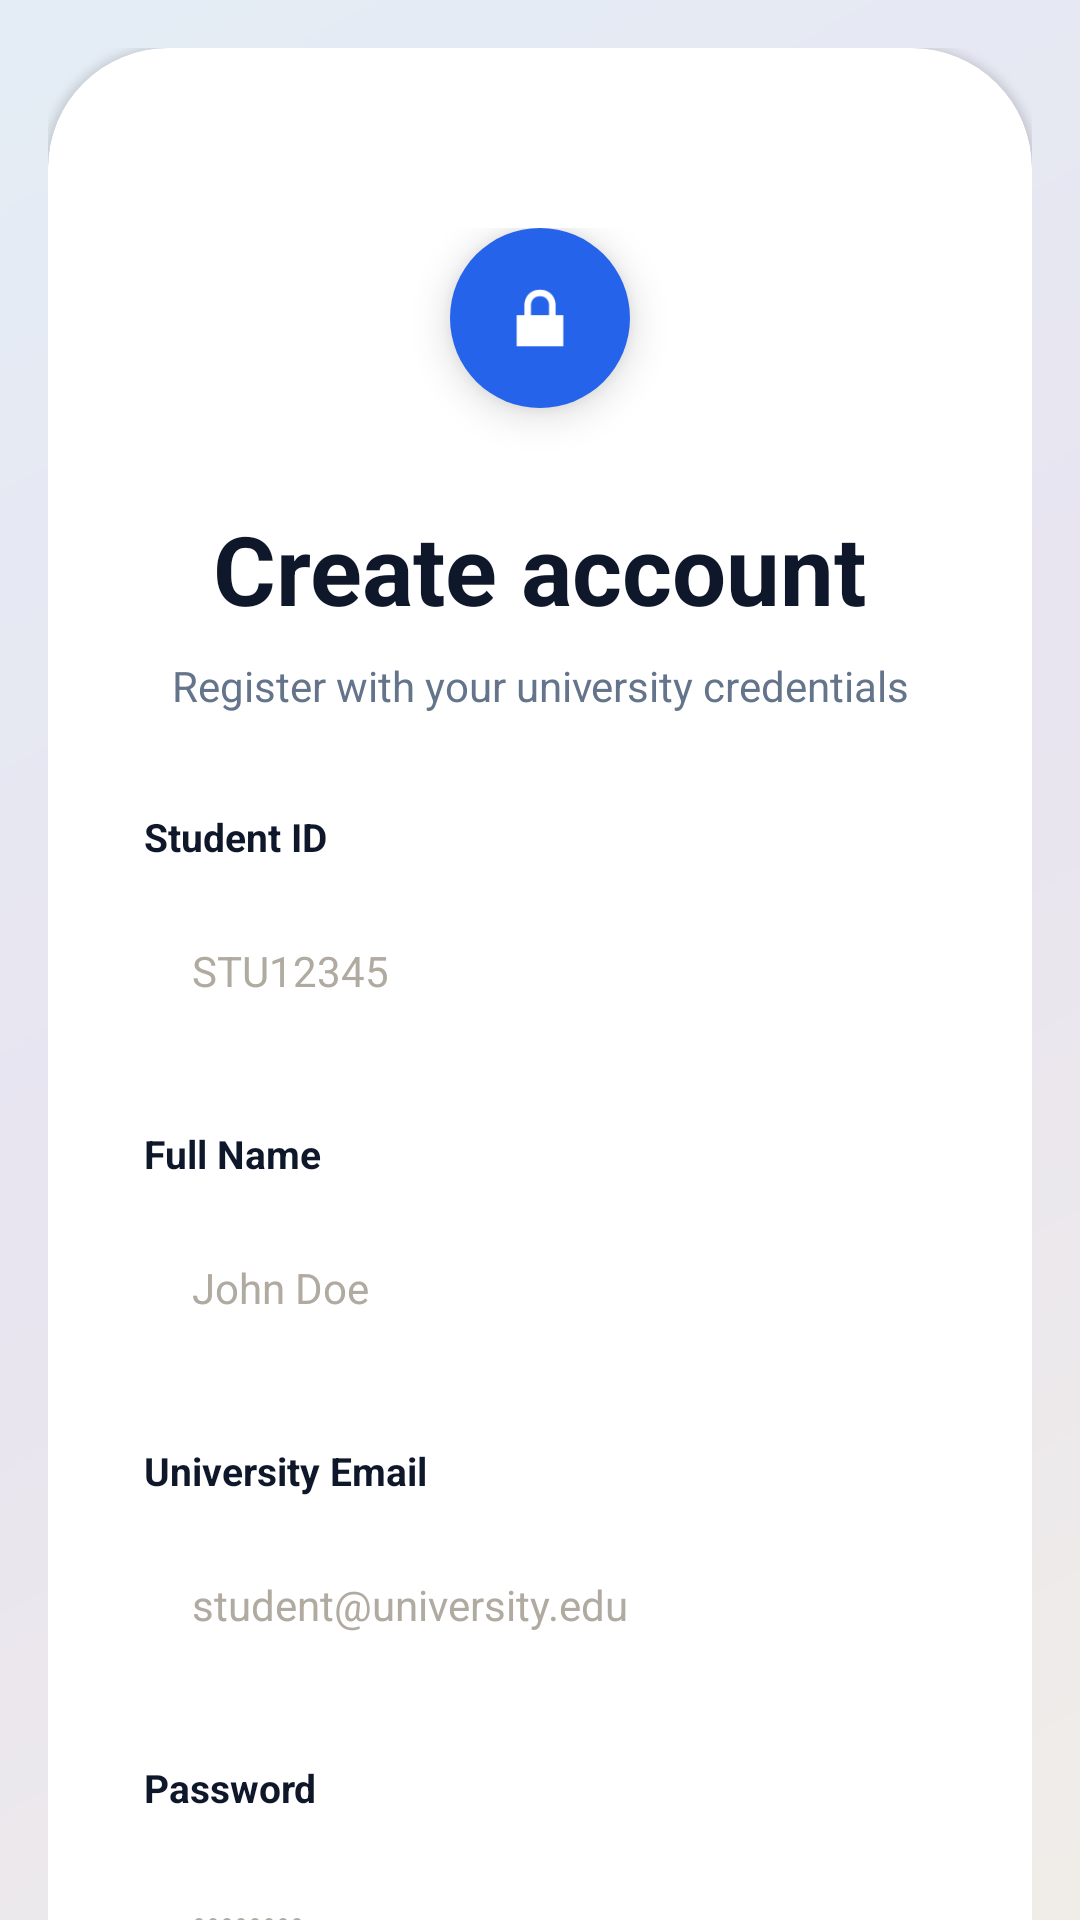

Where to tap for icons on this 1080×1920 app screen, as [x,y]:
lock: [540,318]
